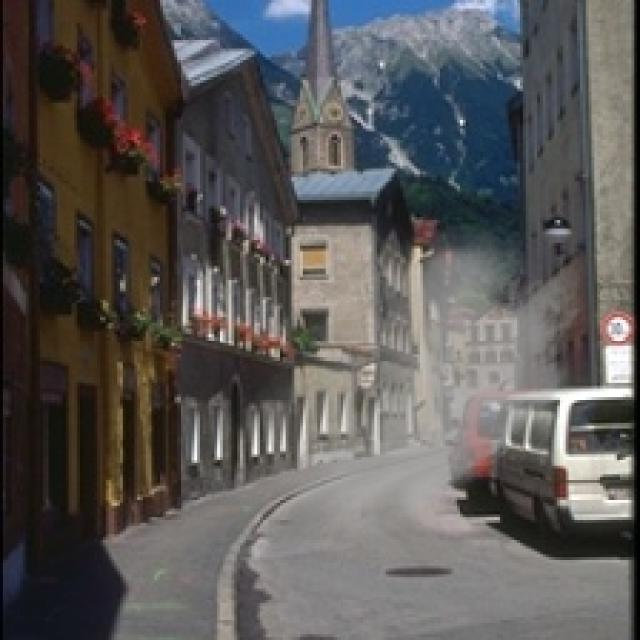Smoke: (217, 208, 594, 560)
